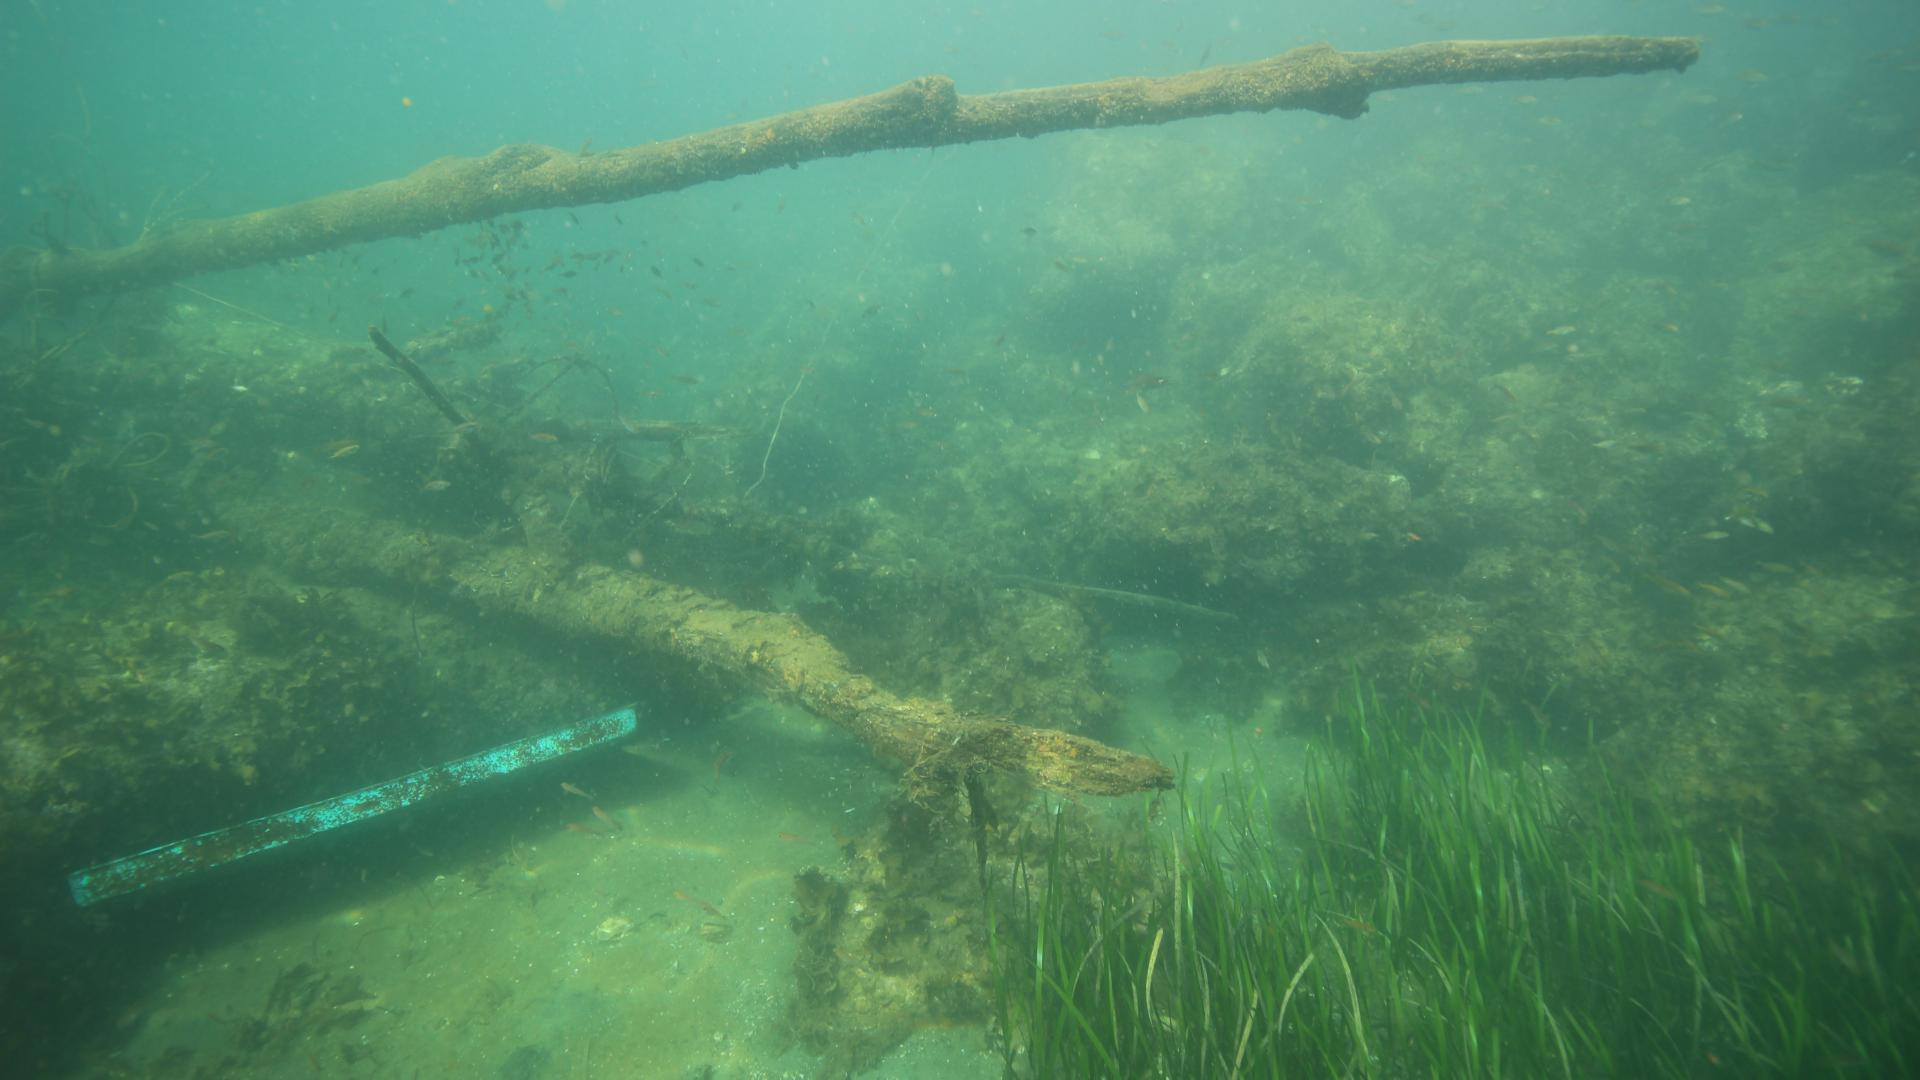bundle of ropes: (0, 83, 218, 534)
wood: (0, 30, 1697, 796)
